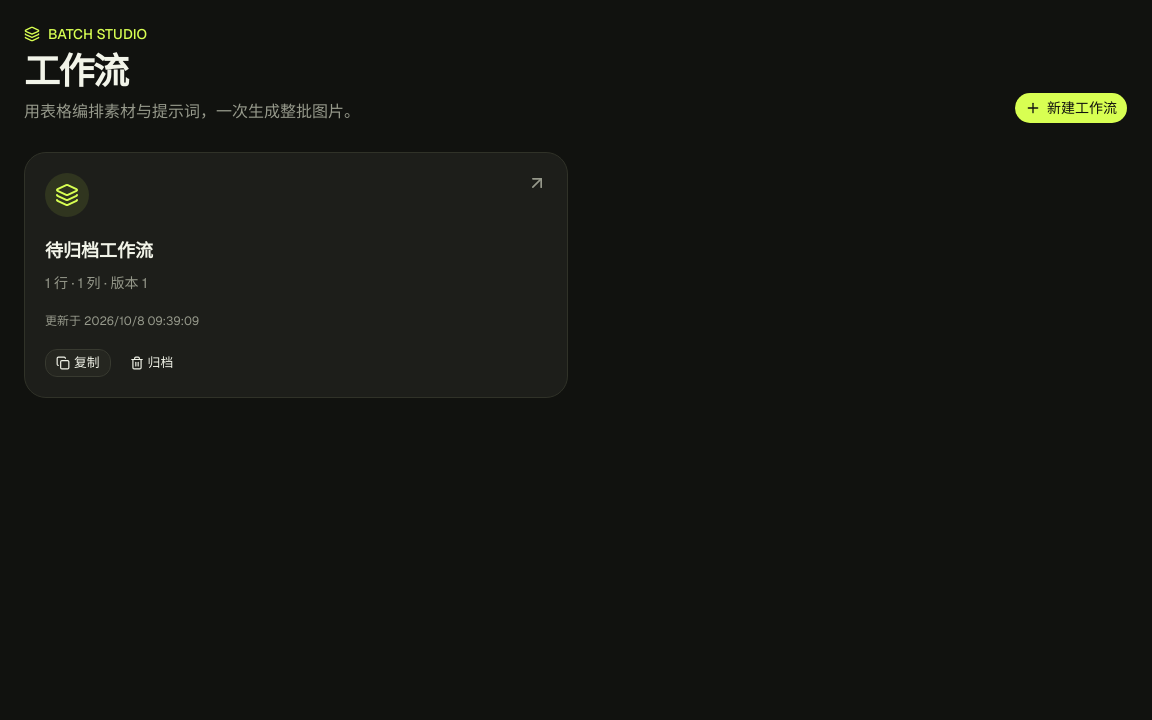
Test case: workflows list › archives a workflow through the server
This screenshot has width=1152, height=720.
Click the button with aria-label "归档 待归档工作流": coordinates (151, 363) left=119, top=349, right=184, bottom=377
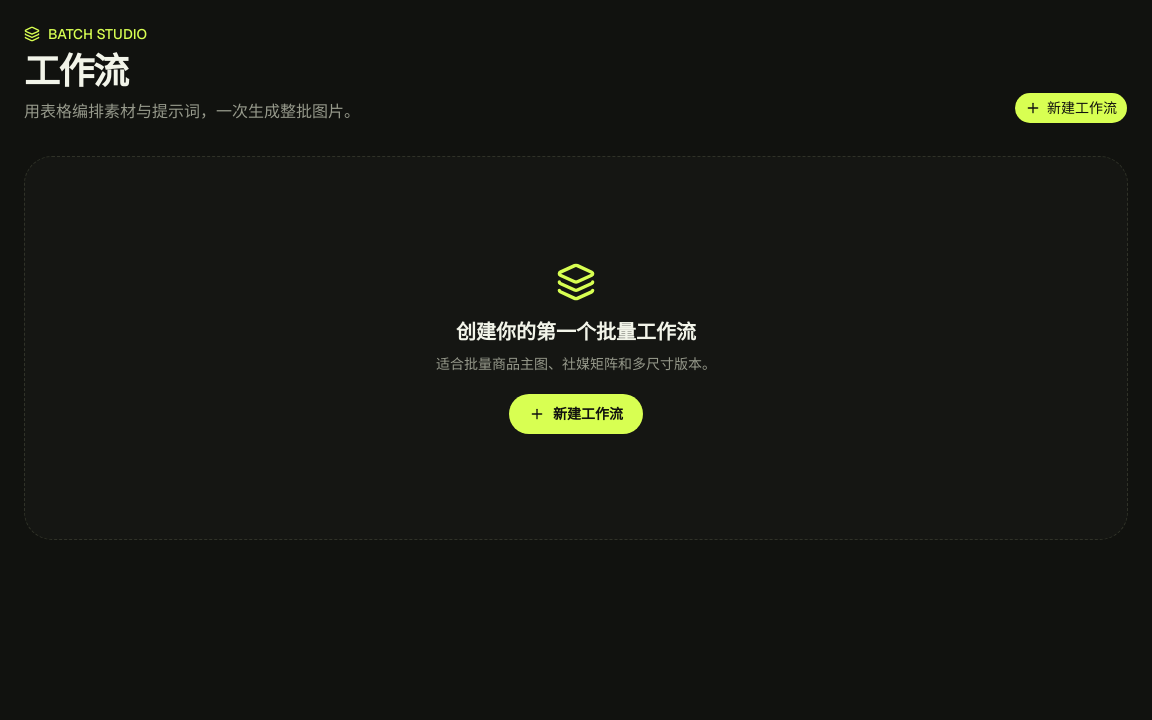
Result: the heading "创建你的第一个批量工作流" is shown at left=436, top=318, right=716, bottom=346
